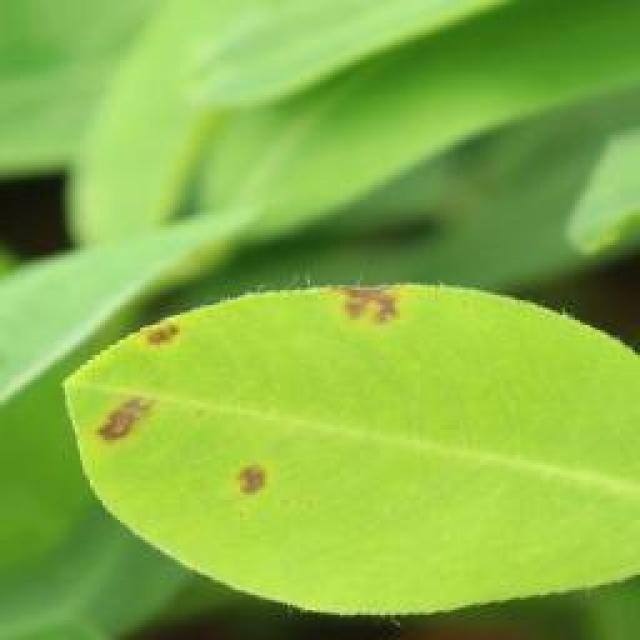Sigatoka: (314, 280, 432, 346), (87, 385, 165, 458), (226, 438, 295, 509), (127, 304, 203, 365)
